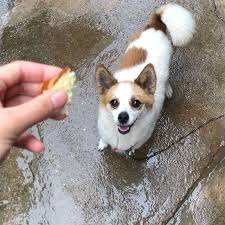dog: (89, 18, 178, 157)
